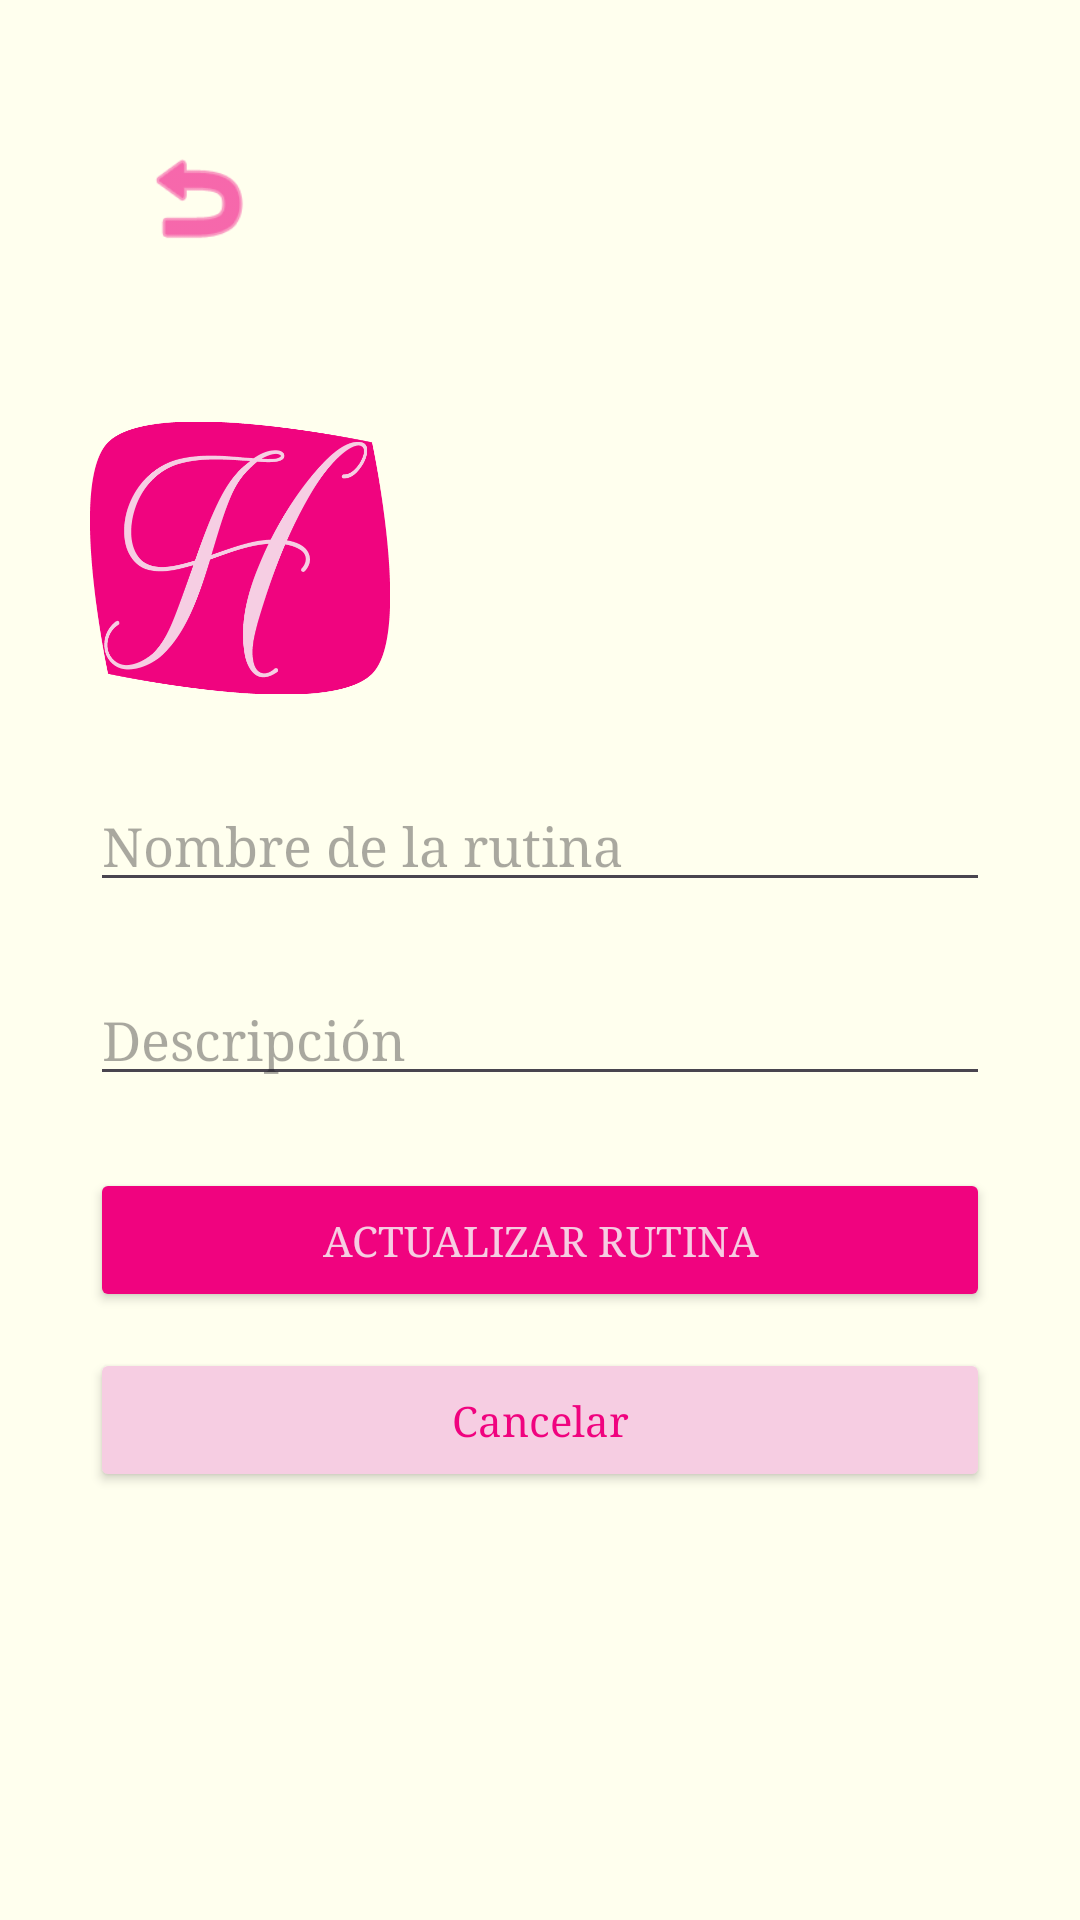

Locate icon controls on the screen. Image size 1080px×1920px, boxes as (x1, y1, x2, y2).
Volver: (156, 160, 243, 238)
